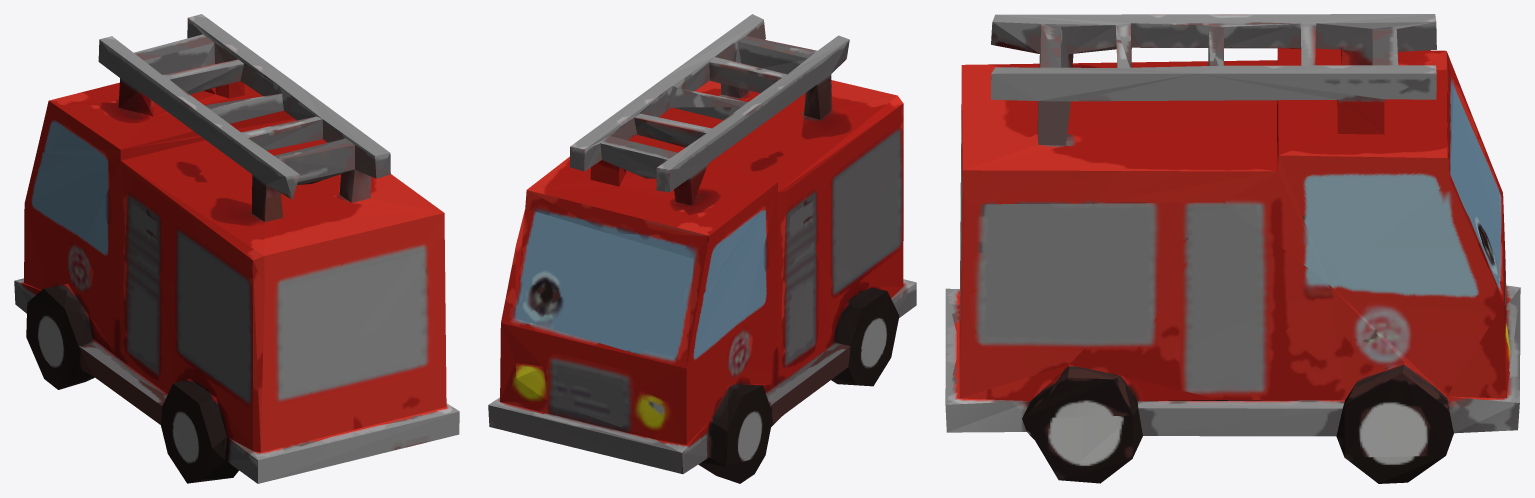
The picture shows the model from 3 angles, left to right: view 1: azimuth 30°, elevation 25°; view 2: azimuth 150°, elevation 25°; view 3: azimuth 270°, elevation 25°; orthographic projection. The views are drawn at different scales.
Visible parts, largest first — view 1: Simplified; view 2: Simplified; view 3: Simplified.
Part boxes in pixels (bbox=[...]): Simplified: bbox=[14, 14, 459, 483]; Simplified: bbox=[488, 14, 916, 483]; Simplified: bbox=[945, 14, 1520, 483].
Size of the model in its own units: 0.2144 by 0.2776 by 0.3842.
Materials: 1 (1 with a texture image).
